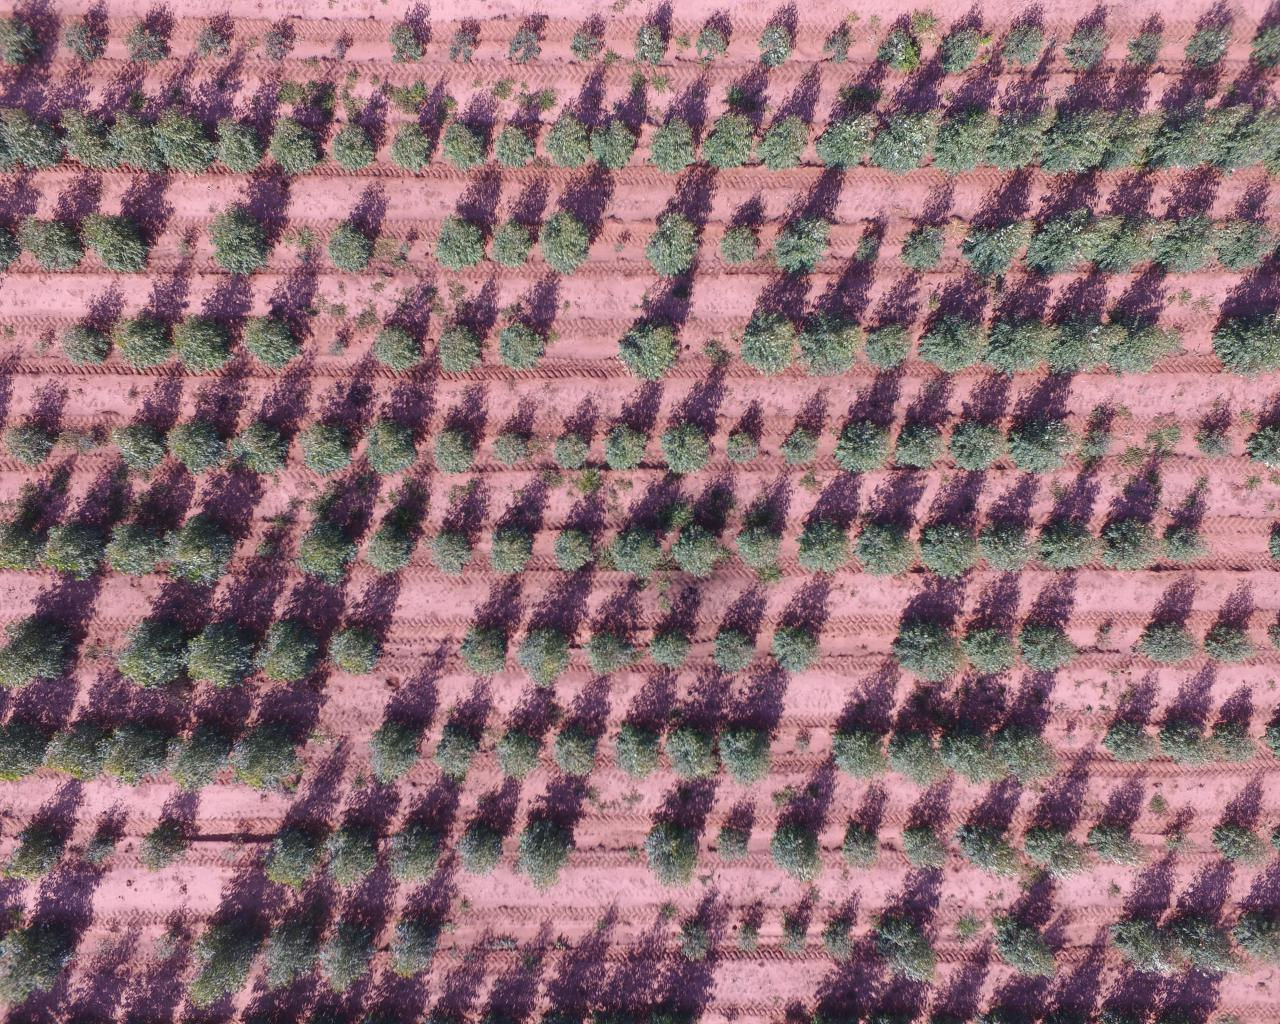Tree: (868, 876, 944, 987), (0, 589, 77, 698), (186, 908, 263, 1009), (985, 887, 1064, 981), (83, 187, 168, 272), (1, 921, 83, 1008), (1111, 870, 1178, 970), (208, 183, 282, 271), (616, 289, 685, 380), (1171, 874, 1237, 969), (959, 182, 1028, 271), (857, 478, 915, 581), (917, 478, 976, 579), (3, 795, 73, 880), (494, 287, 566, 369), (161, 514, 246, 581), (831, 690, 893, 779), (255, 810, 325, 890), (1010, 382, 1075, 469), (232, 723, 310, 793), (1026, 792, 1091, 877), (1117, 279, 1177, 371), (960, 794, 1022, 882), (537, 188, 604, 269), (165, 303, 239, 375), (325, 602, 393, 680), (645, 188, 707, 273), (917, 289, 984, 368), (516, 797, 577, 883), (951, 381, 1008, 471), (978, 482, 1035, 572), (1039, 483, 1100, 566), (894, 688, 950, 781), (1083, 796, 1155, 867), (20, 191, 83, 273), (1164, 672, 1214, 773), (1212, 776, 1271, 863), (646, 796, 702, 886), (891, 609, 961, 681), (319, 807, 386, 882), (795, 492, 856, 575), (775, 191, 835, 275), (1165, 176, 1216, 272), (661, 389, 718, 475), (243, 293, 309, 367), (800, 289, 861, 370), (1100, 486, 1158, 571), (998, 695, 1053, 783), (450, 804, 512, 882), (874, 104, 938, 179), (119, 614, 184, 689), (948, 696, 1001, 786), (364, 704, 430, 775), (774, 785, 827, 876), (1056, 283, 1108, 375), (434, 389, 489, 473), (1159, 487, 1216, 568), (187, 611, 254, 681), (7, 381, 62, 467), (664, 698, 721, 778), (295, 516, 359, 587), (901, 791, 955, 876), (834, 398, 894, 473), (1212, 309, 1280, 376), (777, 385, 834, 465), (371, 296, 428, 374), (511, 614, 571, 690), (437, 286, 487, 375), (723, 704, 785, 776), (720, 182, 771, 269), (386, 810, 446, 883), (894, 393, 950, 472), (864, 284, 915, 370), (435, 188, 489, 269), (39, 714, 101, 783), (599, 391, 653, 470), (903, 184, 952, 272), (993, 297, 1052, 369), (321, 909, 376, 986), (1220, 182, 1269, 271), (41, 510, 106, 576), (360, 406, 424, 473), (731, 492, 788, 567), (1035, 186, 1086, 269), (103, 716, 164, 784), (838, 787, 893, 861), (166, 719, 226, 788), (1112, 675, 1159, 762), (115, 308, 178, 372), (256, 619, 320, 681), (324, 205, 385, 271), (812, 109, 872, 174), (0, 0, 56, 69), (1014, 619, 1085, 673), (610, 714, 668, 781), (159, 416, 231, 469), (60, 0, 116, 68), (1061, 2, 1114, 72), (759, 109, 811, 180), (103, 418, 176, 469), (742, 301, 796, 369), (228, 424, 301, 474), (143, 796, 191, 872), (816, 885, 865, 959), (101, 515, 163, 574), (1210, 685, 1259, 759), (486, 724, 551, 779), (720, 397, 772, 465), (582, 614, 642, 674), (490, 398, 540, 468), (765, 621, 831, 674), (266, 114, 323, 176), (587, 113, 644, 174), (646, 111, 702, 172), (441, 117, 493, 183), (120, 4, 179, 63), (702, 110, 758, 171), (850, 196, 899, 265), (554, 396, 600, 469), (452, 619, 512, 675), (59, 310, 114, 371), (940, 108, 995, 169), (489, 195, 537, 264), (364, 520, 424, 575), (959, 623, 1021, 676), (390, 914, 445, 973), (668, 525, 725, 580), (1184, 6, 1233, 71), (266, 916, 315, 982), (294, 422, 360, 469), (706, 620, 762, 676), (542, 106, 590, 170), (389, 1, 438, 64), (387, 116, 436, 179), (501, 7, 555, 64), (485, 521, 541, 576), (433, 716, 484, 775), (327, 119, 381, 174), (644, 619, 698, 673), (609, 521, 662, 577), (553, 717, 604, 774), (730, 894, 775, 959), (1115, 180, 1148, 266), (935, 8, 980, 72), (1001, 2, 1045, 66), (189, 5, 240, 60), (759, 0, 799, 68), (692, 4, 737, 64), (1133, 622, 1200, 661), (1196, 621, 1257, 662), (439, 14, 488, 65), (718, 799, 759, 861), (1197, 398, 1237, 461), (1077, 399, 1115, 465), (430, 532, 481, 581), (85, 808, 123, 869), (635, 0, 671, 66), (548, 523, 596, 572), (59, 416, 116, 456), (567, 7, 607, 64), (778, 892, 813, 956), (1128, 8, 1163, 71), (495, 121, 538, 169), (675, 920, 721, 962), (148, 917, 184, 971), (262, 11, 297, 61), (821, 22, 854, 68), (1166, 813, 1195, 859), (872, 26, 904, 67), (326, 325, 359, 357), (177, 218, 200, 262), (30, 325, 56, 363), (790, 715, 815, 753), (329, 29, 352, 62), (253, 538, 287, 559), (612, 226, 632, 256)
